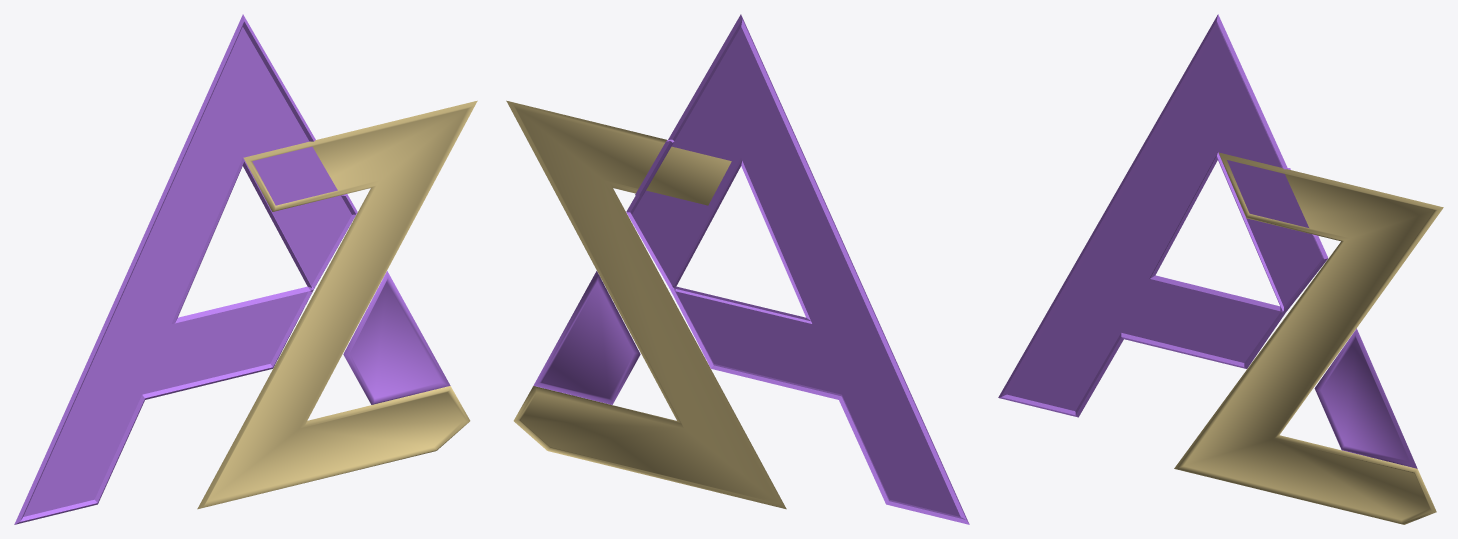
Rendered from Ramki.glb.
The picture shows the model from 3 angles, left to right: view 1: azimuth 30°, elevation 25°; view 2: azimuth 150°, elevation 25°; view 3: azimuth 330°, elevation 25°; orthographic projection. The views are drawn at different scales.
Parts seen in each view (by area): view 1: Cube.008, Cube.006, Cube.007; view 2: Cube.008, Cube.006, Cube.007; view 3: Cube.008, Cube.006, Cube.007.
Boxes of the visible parts, bbox=[...] form: Cube.008: bbox=[14, 14, 357, 524]; Cube.006: bbox=[197, 100, 477, 509]; Cube.007: bbox=[343, 271, 450, 404]; Cube.008: bbox=[626, 14, 969, 524]; Cube.006: bbox=[506, 100, 786, 509]; Cube.007: bbox=[533, 271, 640, 404]; Cube.008: bbox=[998, 14, 1328, 417]; Cube.006: bbox=[1174, 152, 1443, 524]; Cube.007: bbox=[1314, 328, 1417, 468].
Size of the model in its own units: 0.3876 by 0.3868 by 0.00472.
2 materials, 1 textured.
